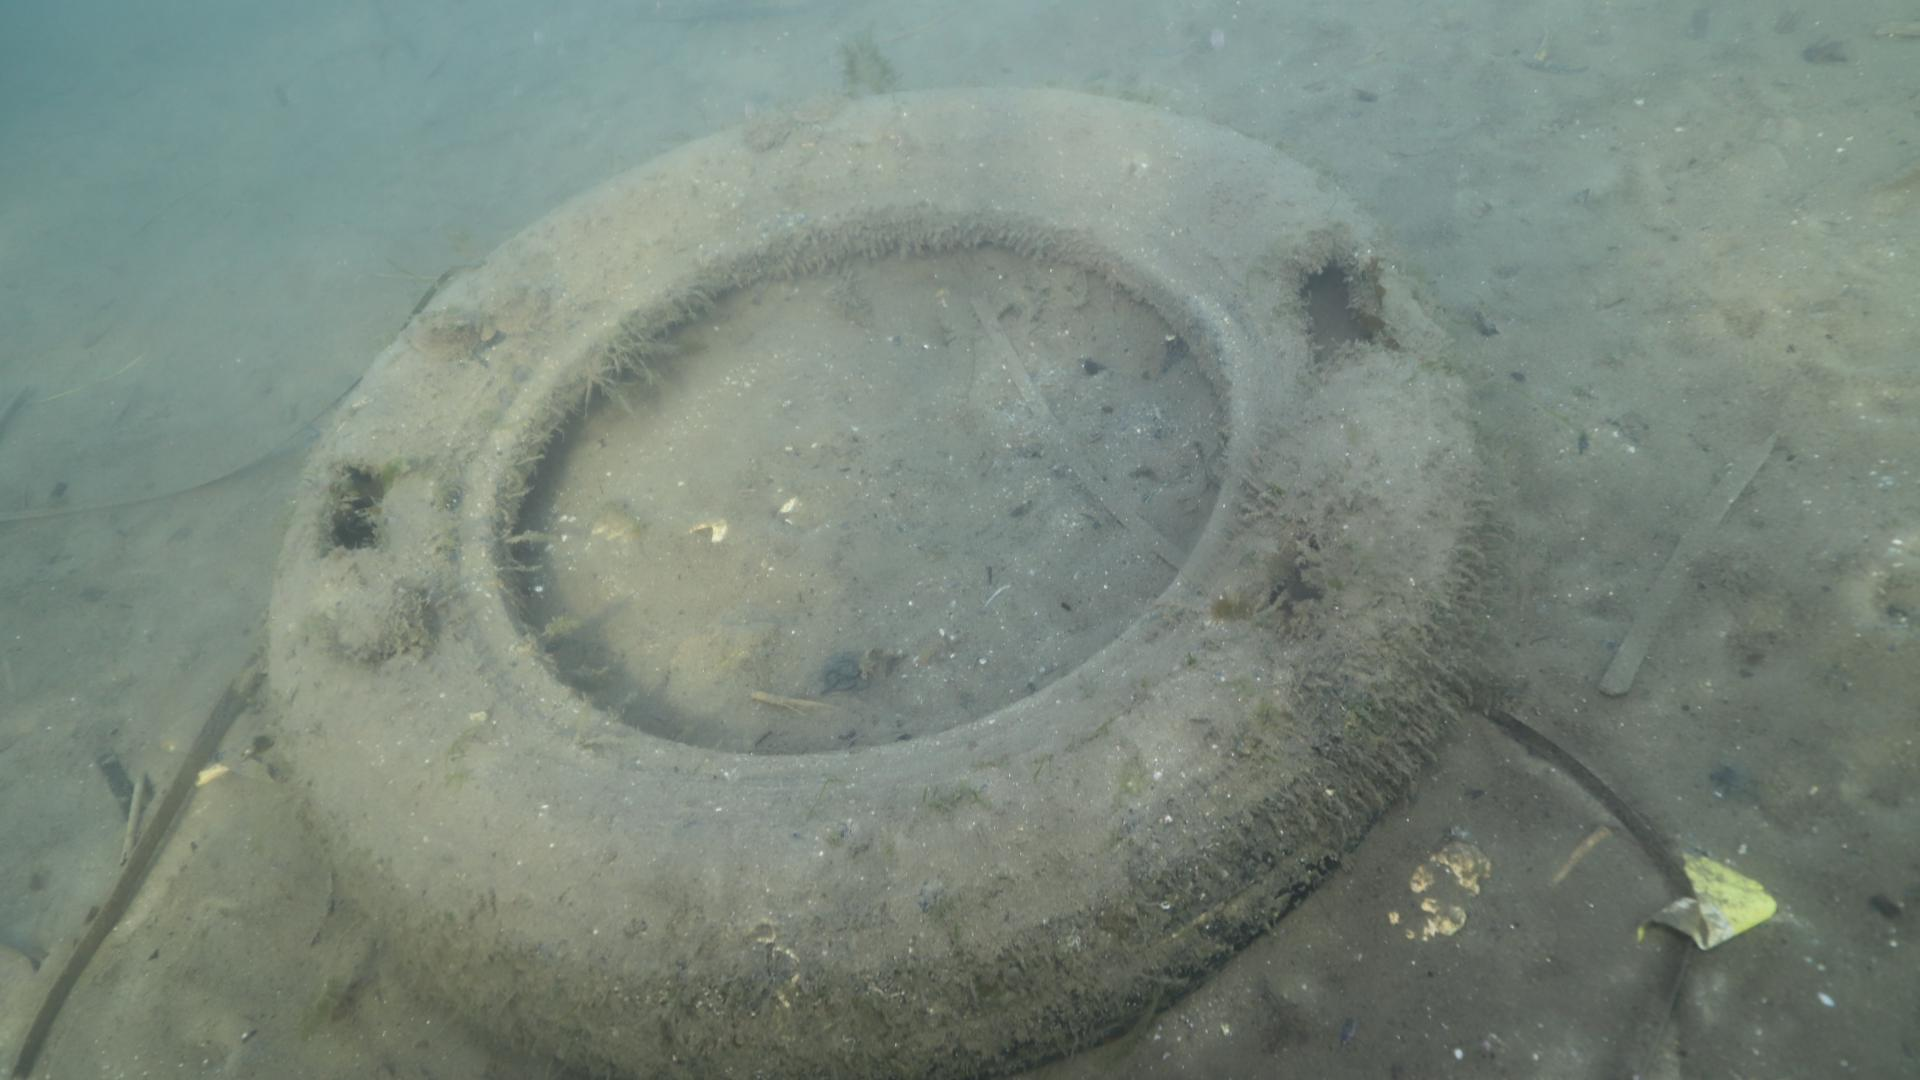tire: (266, 80, 1484, 1080)
